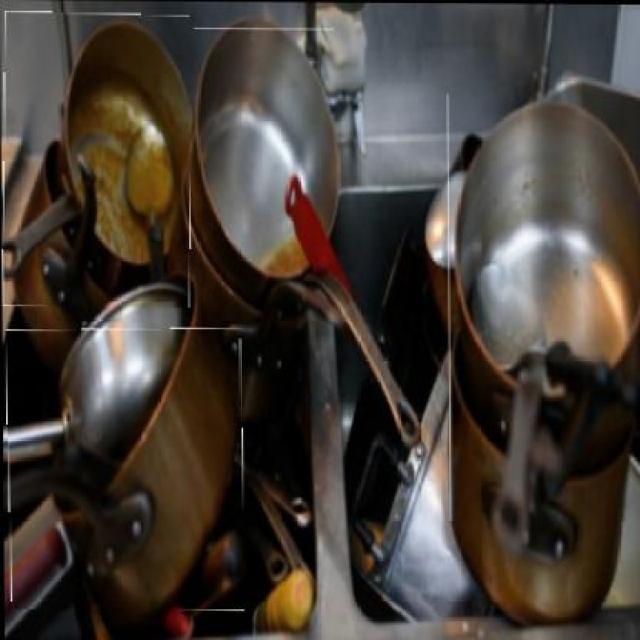pot: (446, 92, 639, 523), (6, 328, 244, 612), (2, 12, 192, 309), (194, 28, 337, 322), (2, 266, 190, 479), (480, 371, 623, 621)
